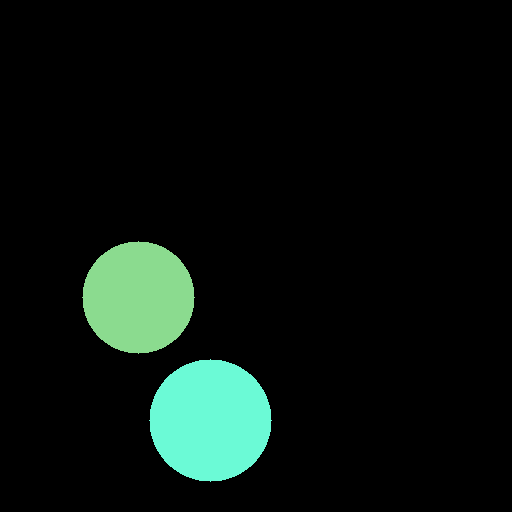circle: (149, 359, 271, 481), (82, 241, 194, 353)
